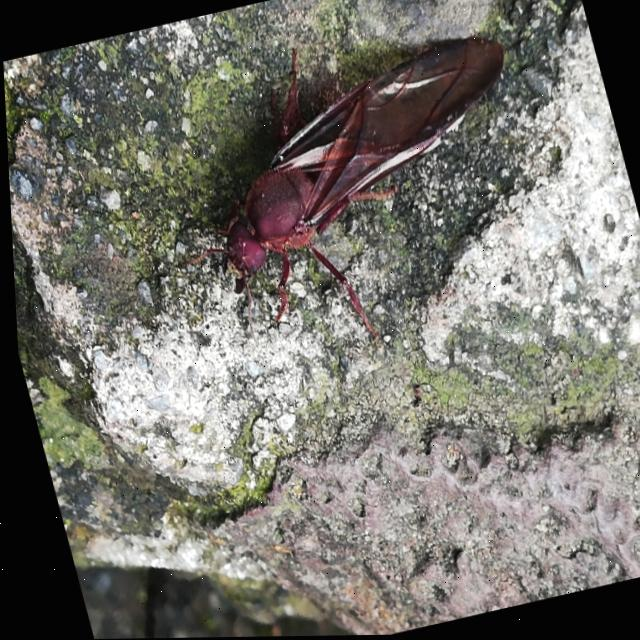Alive-Female-Alate: (129, 1, 570, 383)
